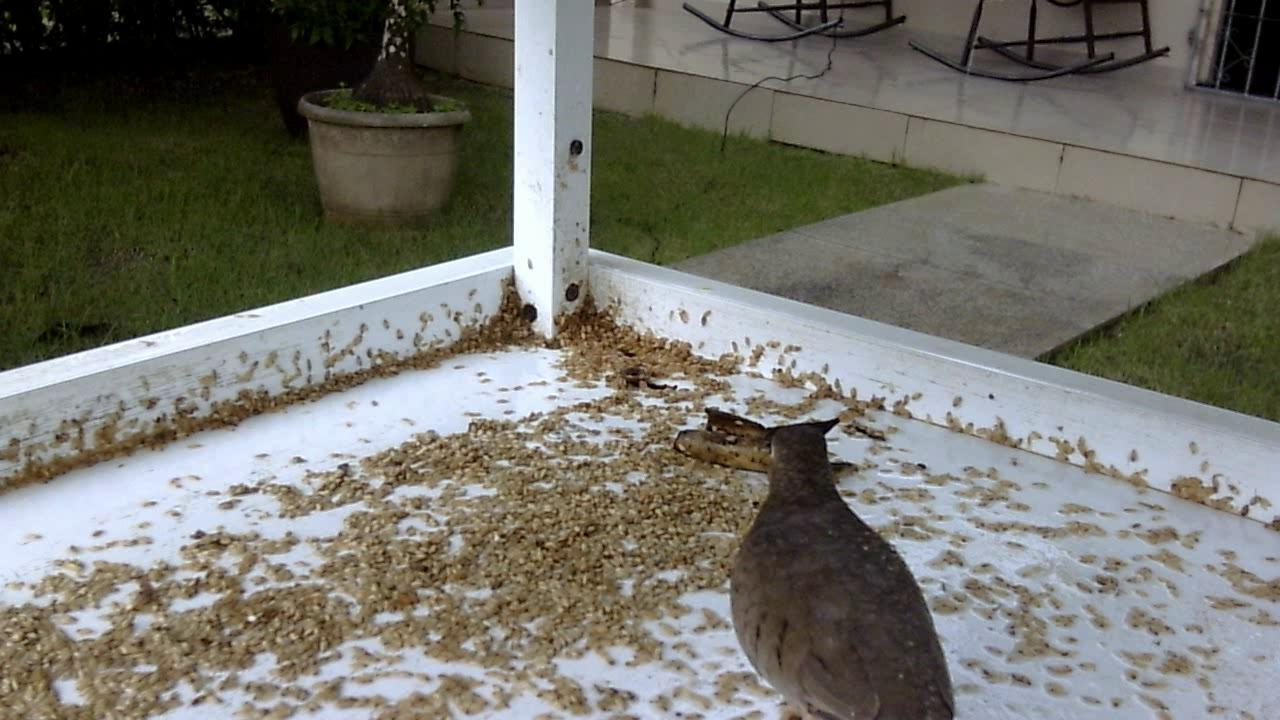rolinha: (701, 395, 972, 720)
